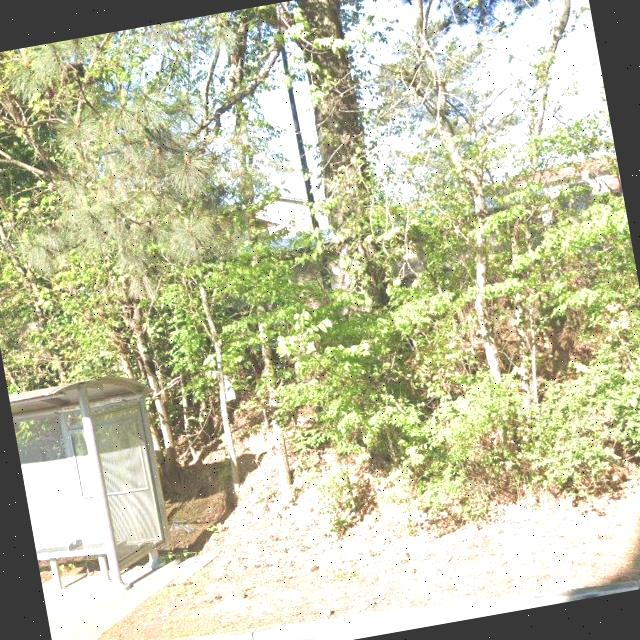seating: (34, 532, 114, 596)
shelter: (8, 366, 184, 608)
